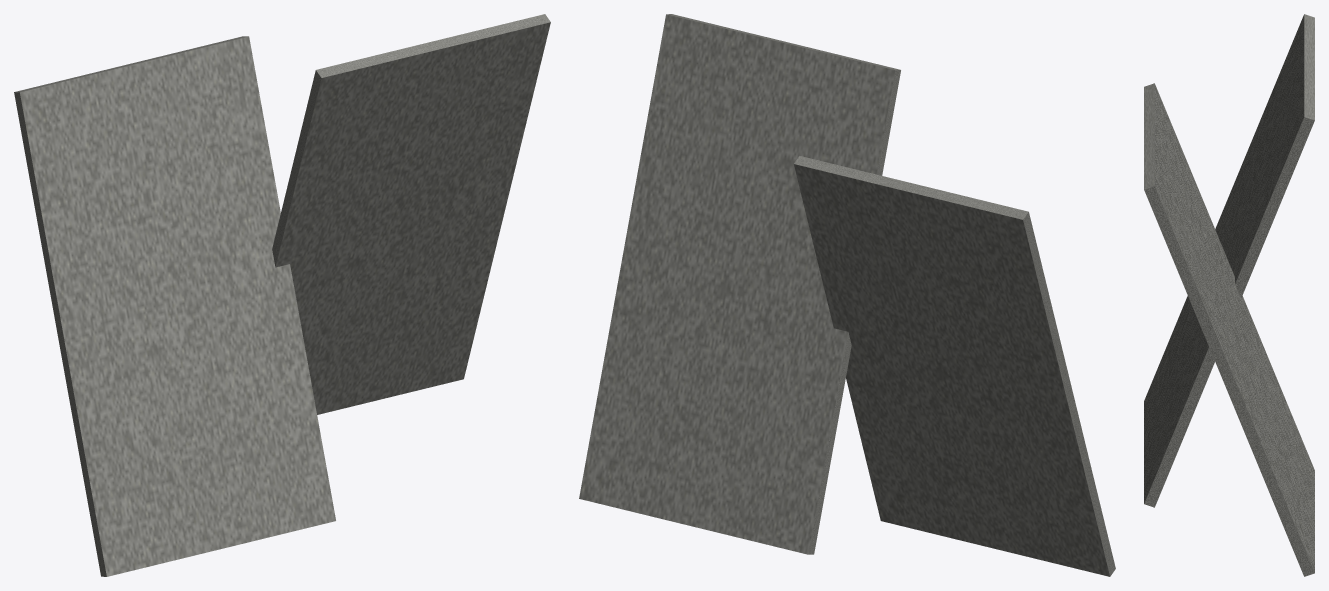
3 views of the same model, side by side, from view 1: azimuth 30°, elevation 25°; view 2: azimuth 150°, elevation 25°; view 3: azimuth 270°, elevation 25° (orthographic). The views are drawn at different scales.
Parts seen in each view (by area): view 1: roof_pitched_lod0_example; view 2: roof_pitched_lod0_example; view 3: roof_pitched_lod0_example.
Part boxes in pixels (x1,y1,x2,y2): roof_pitched_lod0_example: (14, 14, 550, 576); roof_pitched_lod0_example: (579, 14, 1115, 576); roof_pitched_lod0_example: (1144, 14, 1314, 576).
Bounding box in the file's own units: 8.27 × 8.09 × 3.
Materials: 1 (1 with a texture image).
